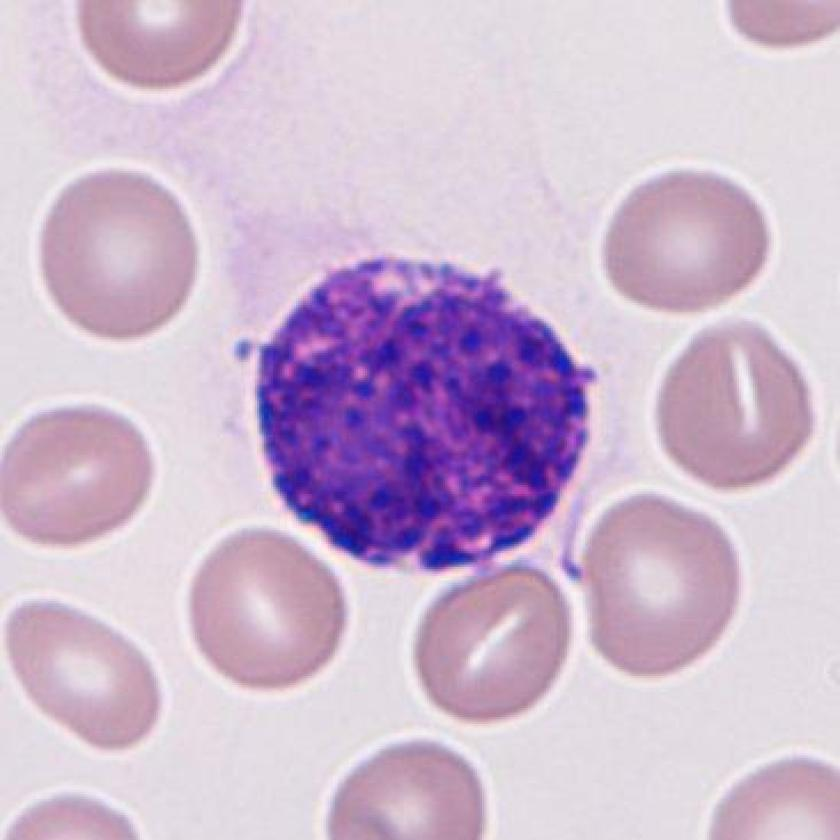basophil: (238, 240, 612, 591)
